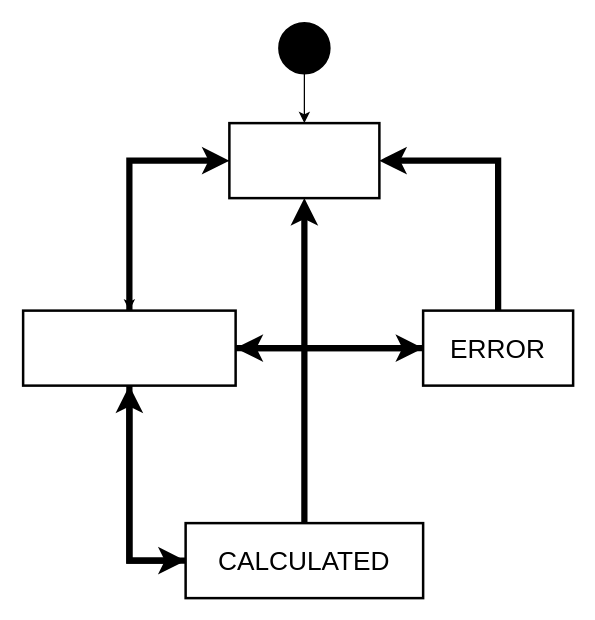
This 595x620 diagram has some shape labels left out. Here are the shapes that lost their labels. From the top down, the box of each, then its label:
(228, 121, 380, 199): READY
(21, 309, 236, 386): INPUTTING
